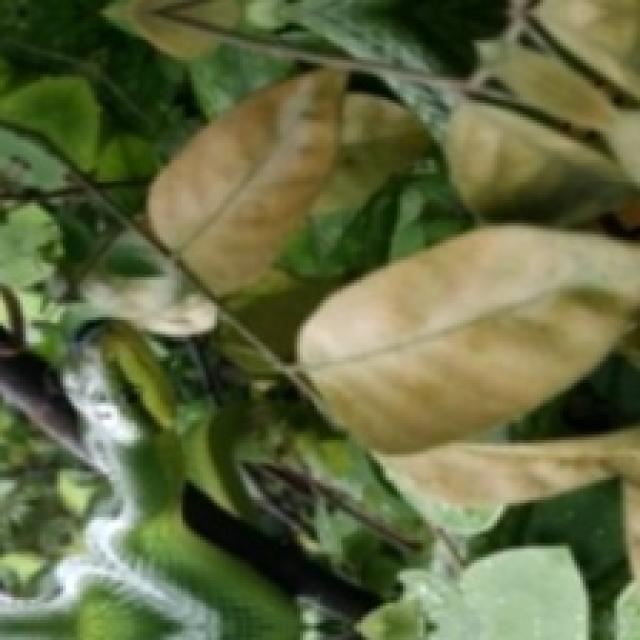red-tailed green ratsnake: (0, 322, 299, 639), (299, 0, 449, 133)
